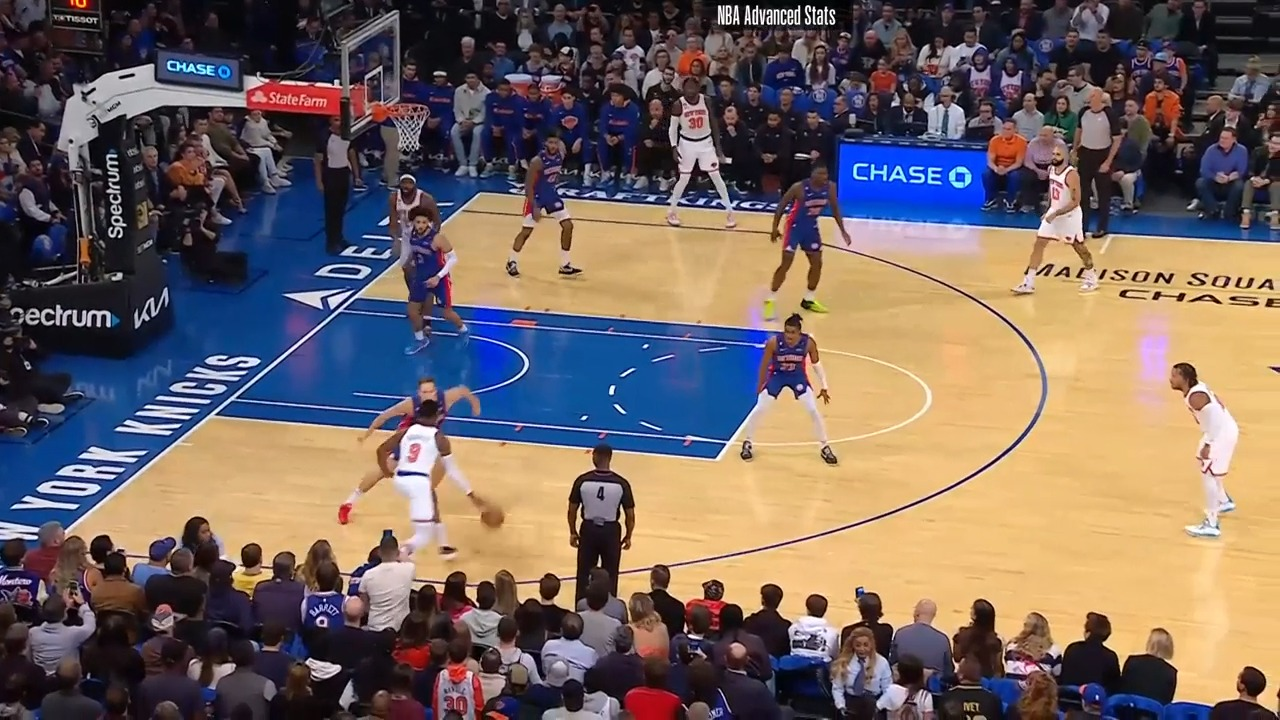net: (369, 97, 432, 152)
player: (335, 380, 483, 519), (371, 394, 488, 564), (735, 309, 847, 468), (1161, 361, 1246, 548), (768, 159, 853, 318), (1025, 135, 1104, 298), (398, 199, 475, 357), (508, 134, 582, 281), (663, 74, 735, 225), (379, 160, 443, 280)
referee: (560, 442, 639, 594), (1071, 86, 1128, 229), (312, 121, 362, 260)
